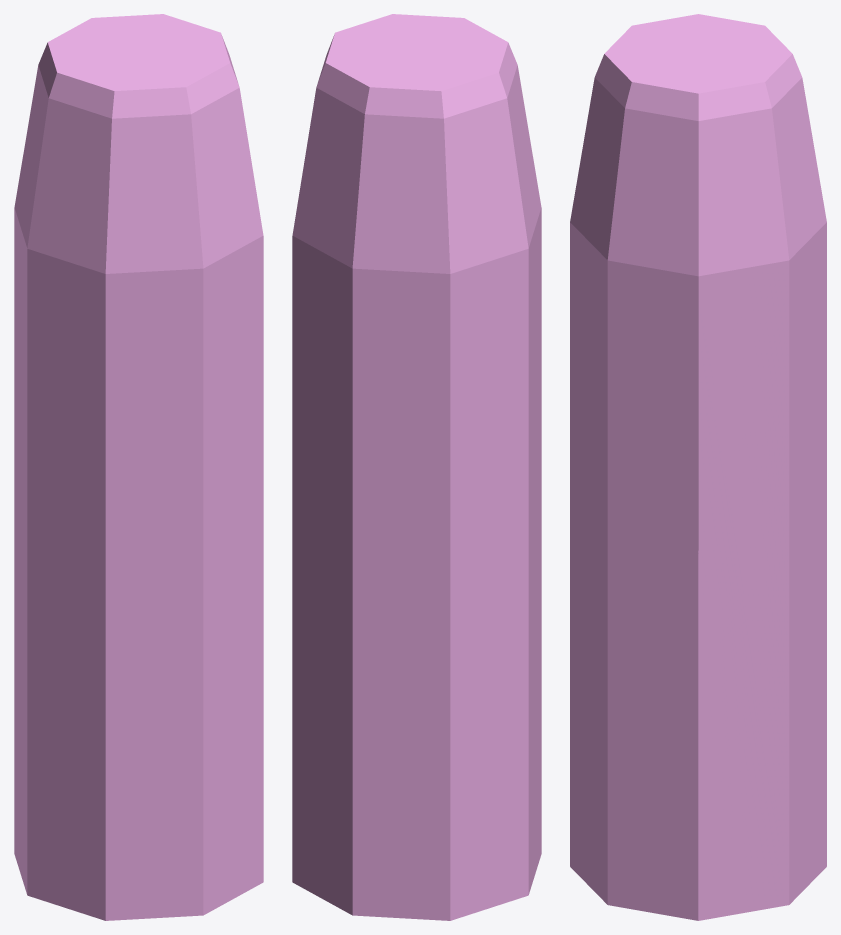
The model's file is Body.fbx.
3 renders of one model, left to right at view 1: azimuth 30°, elevation 25°; view 2: azimuth 150°, elevation 25°; view 3: azimuth 270°, elevation 25°, orthographic.
Parts seen in each view (by area): view 1: Body; view 2: Body; view 3: Body.
Boxes of the visible parts, x1,y1,x2,y2 form: Body: (14, 14, 263, 920); Body: (292, 14, 541, 920); Body: (570, 14, 826, 920).
Size of the model in its own units: 200 by 698 by 200.
